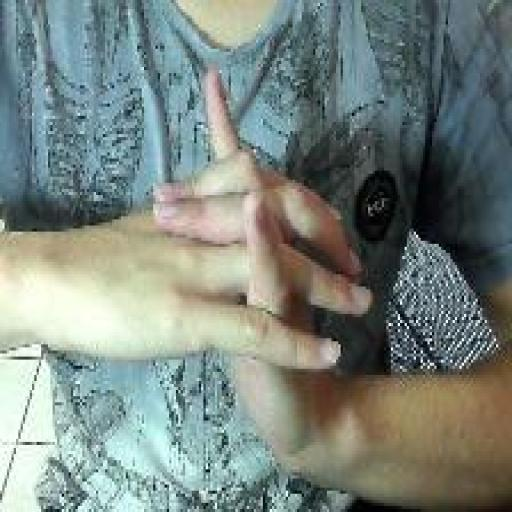Ushi -ox-: (150, 64, 376, 482)
